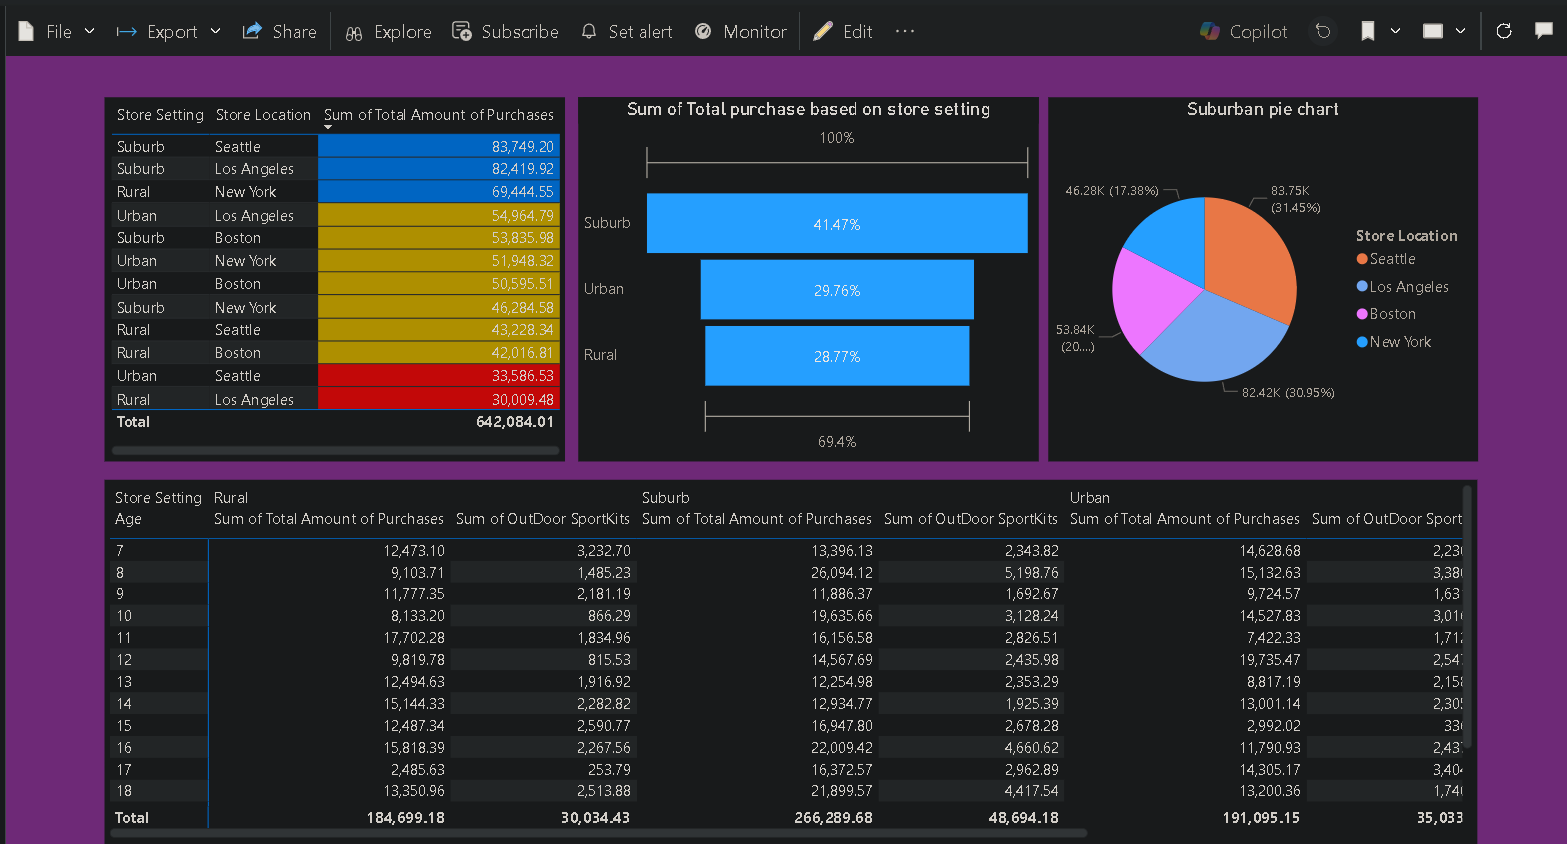

This screenshot's page, from the dashboard's own definition file:
{"tool":"powerbi","page":{"name":"Page 1","canvas":[1280,720],"ordinal":0},"visuals":[{"type":"tableEx","fields":{"Values":["Student Survey.Store Setting","Student Survey.Store Location","Sum(Student Survey.Total Amount of Purchases)"]},"box":[16.3,37.2,420.9,332.6],"z":0},{"type":"pivotTable","fields":{"Rows":["Student Survey.Age"],"Values":["Sum(Student Survey.Total Amount of Purchases)","Sum(Student Survey.OutDoor SportKits)"],"Columns":["Student Survey.Store Setting"]},"box":[16.3,387.2,1254.7,332.6],"z":1000},{"type":"funnel","title":"Sum of Total purchase based on store setting","fields":{"Y":["Sum(Student Survey.Total Amount of Purchases)"],"Category":["Student Survey.Store Setting"]},"box":[448.8,37.2,420.9,332.6],"z":2000},{"type":"pieChart","title":"Suburban pie chart","fields":{"Category":["Student Survey.Store Location"],"Y":["Sum(Student Survey.Total Amount of Purchases)"],"Series":["Student Survey.Store Setting"]},"box":[877.9,37.2,393,332.6],"z":3000}]}

Visuals, with their boxes on the page's 1280x720 design canvas (x1, y1, x2, y2). These are canvas units, not pixel positions in the 1567x844 screenshot, which may show the page scaled, cropped or inside an application window:
tableEx - Student Survey.Store Setting x Student Survey.Store Location: rect(16, 37, 437, 370)
pivotTable - Student Survey.Age x Sum(Student Survey.Total Amount of Purchases): rect(16, 387, 1271, 720)
"Sum of Total purchase based on store setting" funnel: rect(449, 37, 870, 370)
"Suburban pie chart" pieChart: rect(878, 37, 1271, 370)
